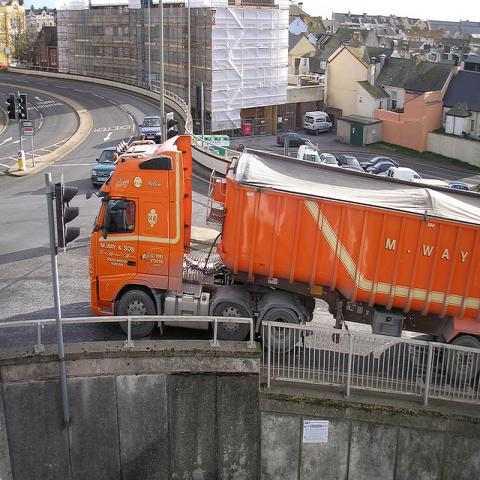car: (92, 145, 117, 189), (377, 165, 422, 182), (358, 153, 399, 171), (139, 112, 163, 140), (336, 154, 365, 171), (277, 133, 311, 146), (365, 162, 396, 174), (319, 152, 340, 168), (449, 180, 470, 190)
truck: (84, 134, 479, 353), (298, 142, 319, 159)
